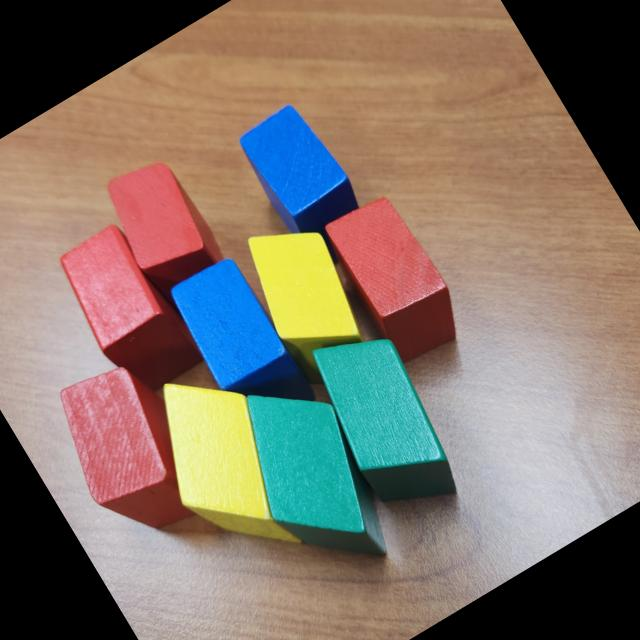blue: (162, 251, 320, 441), (230, 97, 374, 259)
green: (210, 360, 414, 598), (292, 311, 478, 531)
red: (38, 347, 226, 557), (311, 186, 476, 378), (50, 216, 208, 402), (93, 148, 236, 312)
yellow: (124, 350, 326, 586), (229, 206, 380, 377)
